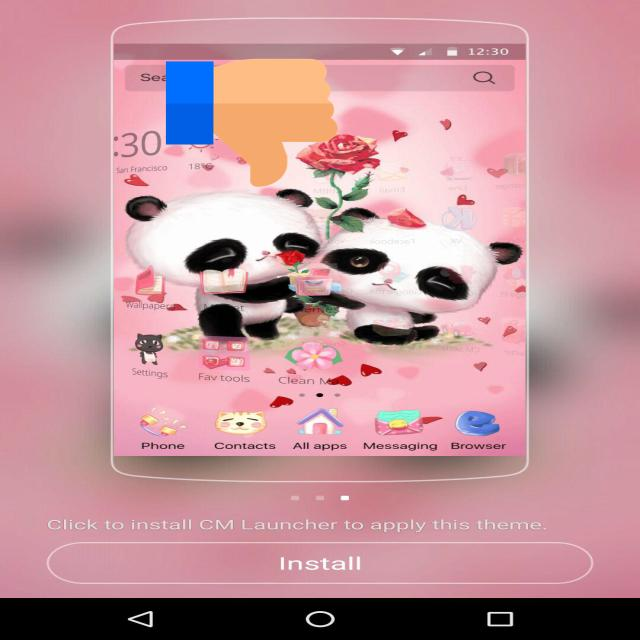obstruction: (166, 56, 338, 190)
